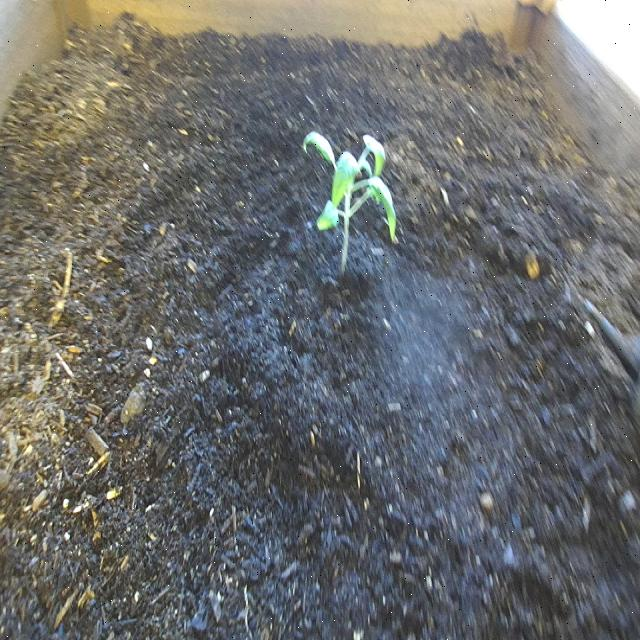Healthy: (295, 113, 411, 286)
